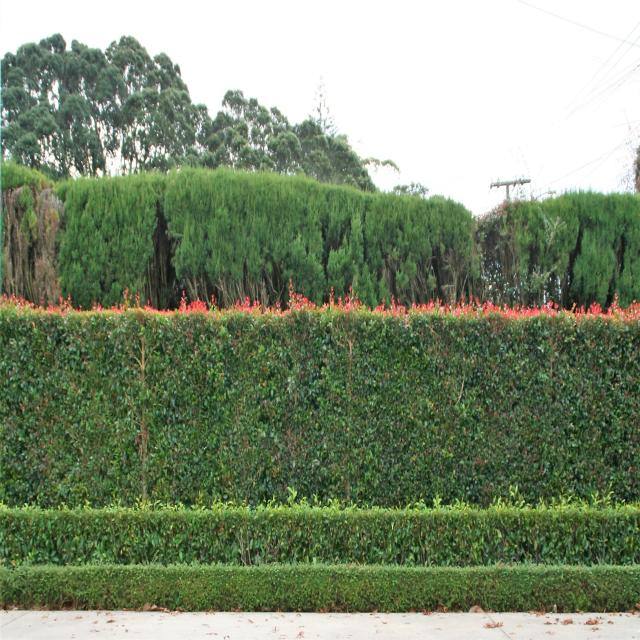Syzygium Resilience: (1, 298, 640, 602)
